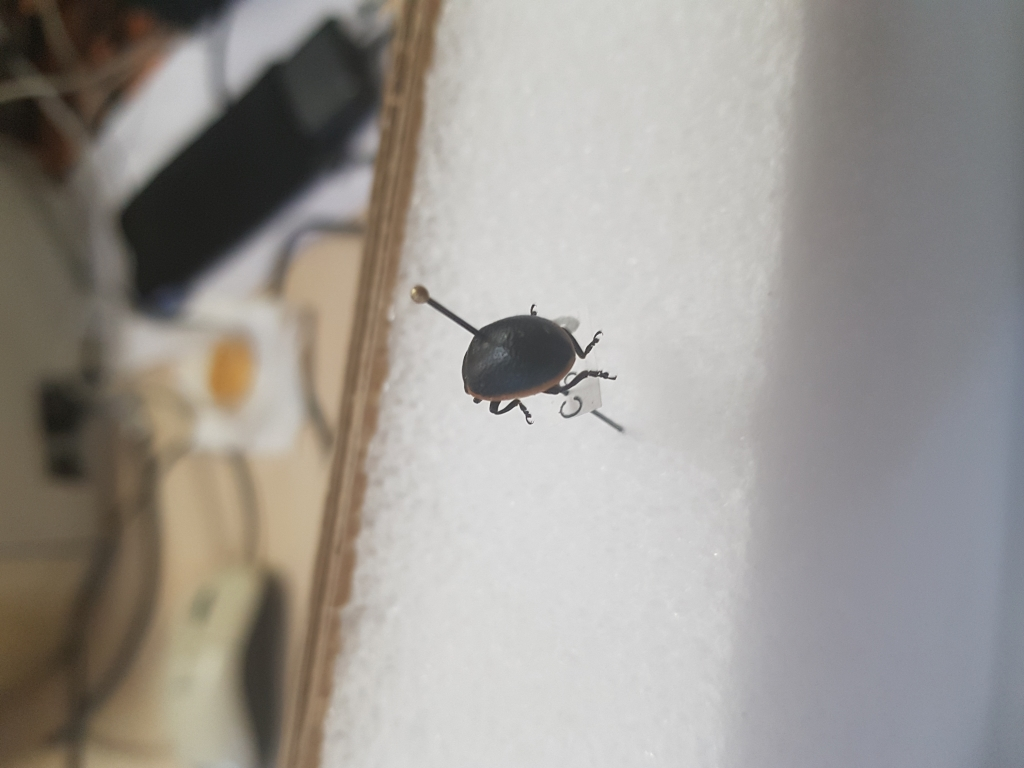Chrysolina_gypsophila: (451, 300, 623, 424)
